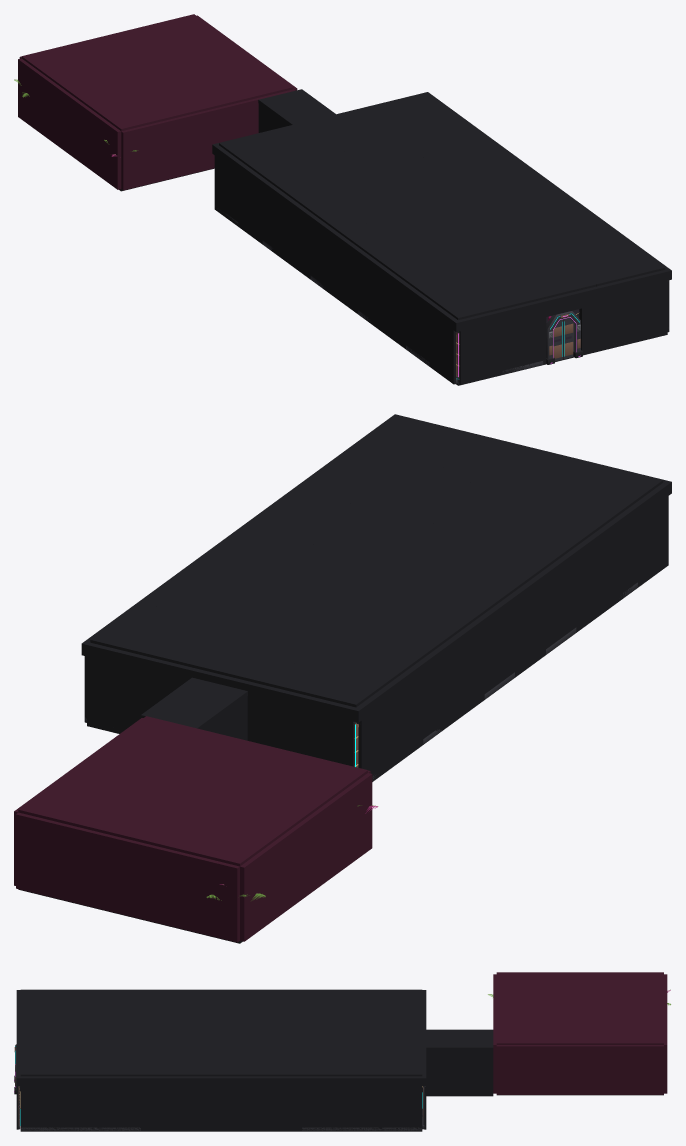
File: boate.glb
3 views of the same model, one above another, from view 1: azimuth 30°, elevation 25°; view 2: azimuth 150°, elevation 25°; view 3: azimuth 270°, elevation 25° (orthographic). The views are drawn at different scales.
Visible parts, largest first — view 1: JAC_35_Teto, JAC_33_Parede_Esquerda_recorte, JAC_32_Parede_Fundo, FILL_faixa_esq, KIT_Teto_Modulo.005, KIT_Teto_Modulo.017, KIT_Teto_Modulo.011, KIT_Teto_Modulo.002, KIT_Teto_Modulo.004, KIT_Teto_Modulo, KIT_Teto_Modulo.003, KIT_Teto_Modulo.001 (+29 smaller); view 2: JAC_35_Teto, JAC_34_Parede_Direita, JAC_32_Parede_Fundo, FILL_faixa_esq, KIT_Teto_Modulo, KIT_Teto_Modulo.012, KIT_Teto_Modulo.006, KIT_Teto_Modulo.001, KIT_Teto_Modulo.005, KIT_Teto_Modulo.003, KIT_Teto_Modulo.002, KIT_Teto_Modulo.004 (+28 smaller); view 3: JAC_35_Teto, JAC_34_Parede_Direita.001, FILL_faixa_dir, KIT_Teto_Modulo.012, KIT_Teto_Modulo.013, KIT_Teto_Modulo.014, KIT_Teto_Modulo.016, KIT_Teto_Modulo.017, KIT_Teto_Modulo.015, KIT_Teto_Modulo, KIT_Teto_Modulo.001, KIT_Teto_Modulo.002 (+26 smaller).
Part boxes in pixels (box(x1,y1,x2,y2)): JAC_35_Teto: box(21, 14, 293, 131); JAC_33_Parede_Esquerda_recorte: box(121, 89, 295, 190); JAC_32_Parede_Fundo: box(18, 58, 121, 189); FILL_faixa_esq: box(212, 145, 457, 331); KIT_Teto_Modulo.005: box(418, 272, 526, 320); KIT_Teto_Modulo.017: box(557, 238, 665, 286); KIT_Teto_Modulo.011: box(487, 255, 595, 303); KIT_Teto_Modulo.002: box(298, 184, 407, 232); KIT_Teto_Modulo.004: box(378, 243, 486, 290); KIT_Teto_Modulo: box(219, 126, 327, 174); KIT_Teto_Modulo.003: box(338, 214, 446, 261); KIT_Teto_Modulo.001: box(259, 155, 367, 203); JAC_35_Teto: box(18, 716, 367, 866); JAC_34_Parede_Direita: box(16, 812, 239, 942); JAC_32_Parede_Fundo: box(240, 773, 372, 941); FILL_faixa_esq: box(356, 482, 671, 722); KIT_Teto_Modulo: box(267, 646, 407, 707); KIT_Teto_Modulo.012: box(90, 602, 229, 664); KIT_Teto_Modulo.006: box(179, 624, 318, 685); KIT_Teto_Modulo.001: box(319, 608, 458, 669); KIT_Teto_Modulo.005: box(523, 458, 663, 519); KIT_Teto_Modulo.003: box(421, 533, 560, 594); KIT_Teto_Modulo.002: box(370, 571, 509, 631); KIT_Teto_Modulo.004: box(472, 496, 611, 557); JAC_35_Teto: box(496, 972, 663, 1044); JAC_34_Parede_Direita.001: box(496, 1045, 663, 1094); FILL_faixa_dir: box(16, 1076, 426, 1085); KIT_Teto_Modulo.012: box(355, 1046, 422, 1076); KIT_Teto_Modulo.013: box(288, 1046, 355, 1076); KIT_Teto_Modulo.014: box(221, 1046, 288, 1076); KIT_Teto_Modulo.016: box(87, 1046, 154, 1076); KIT_Teto_Modulo.017: box(20, 1046, 87, 1076); KIT_Teto_Modulo.015: box(154, 1046, 221, 1076); KIT_Teto_Modulo: box(355, 989, 422, 1017); KIT_Teto_Modulo.001: box(288, 989, 355, 1017); KIT_Teto_Modulo.002: box(221, 989, 288, 1017).
Size of the model in its own units: 15.93 by 3.75 by 39.33.
